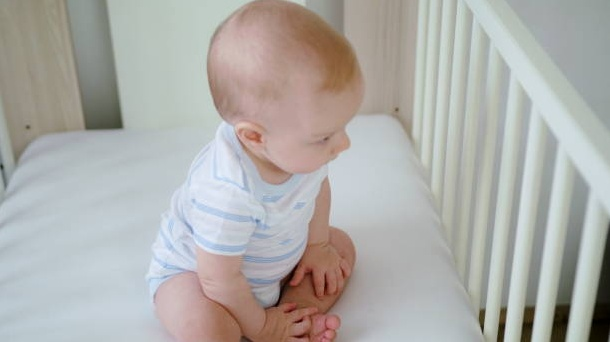baby: (147, 0, 363, 341)
crib: (330, 0, 609, 340)
